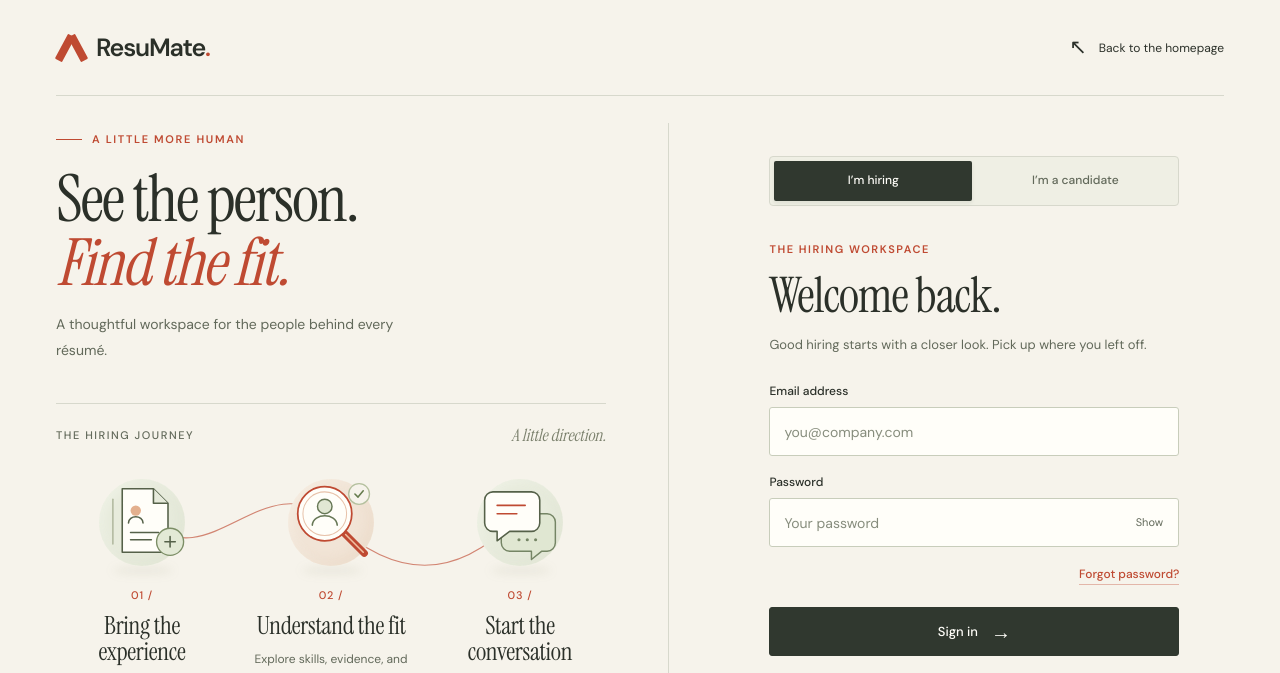
Scenario: before anything is sent › says what is wrong with an email that is not one
In the field labelled "Email address": (974, 432) x1=769 y1=407 x2=1179 y2=456, type "jane@co"
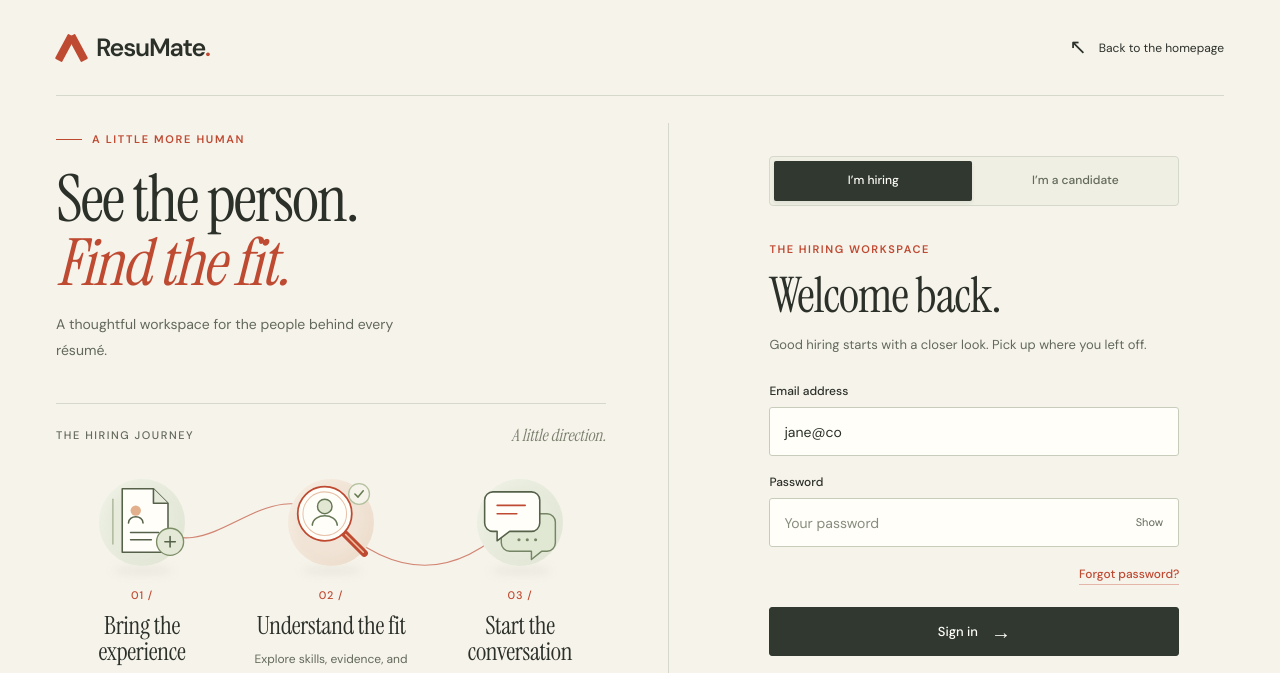
In the password field labelled "Password": (974, 522) x1=769 y1=498 x2=1179 y2=547, type "hunter2hunter2"
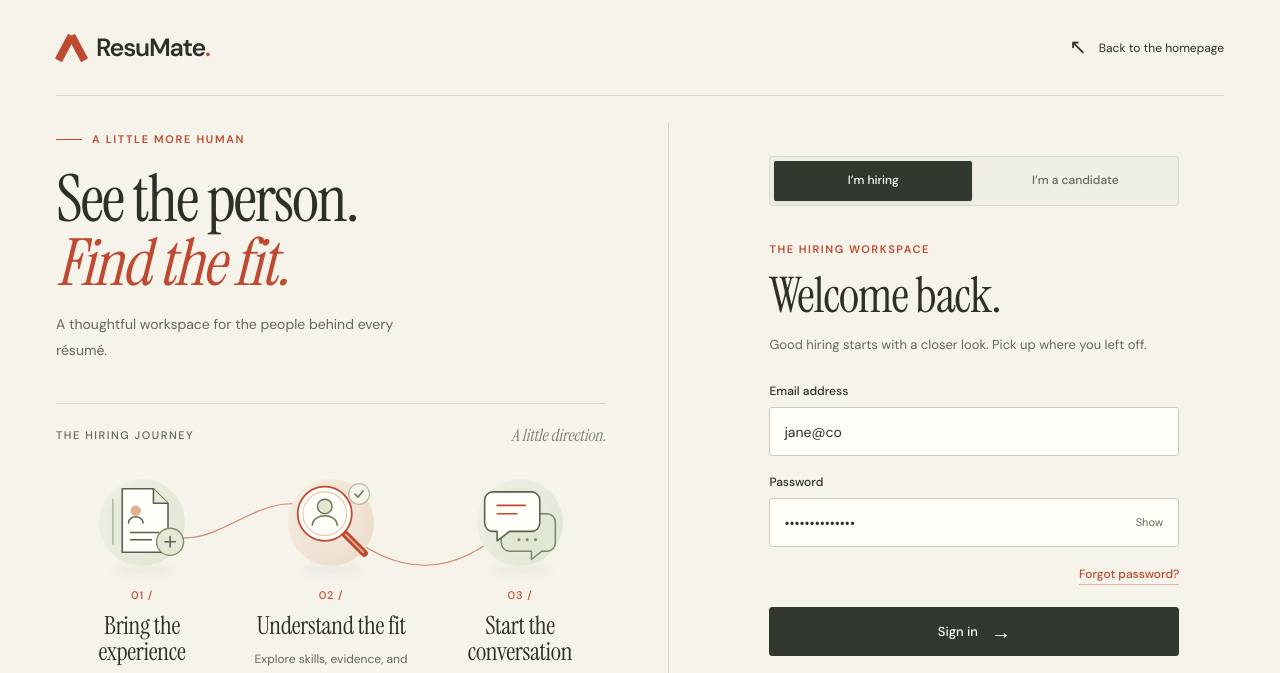
Click the button "Sign in →": (974, 632) x1=769 y1=607 x2=1179 y2=656
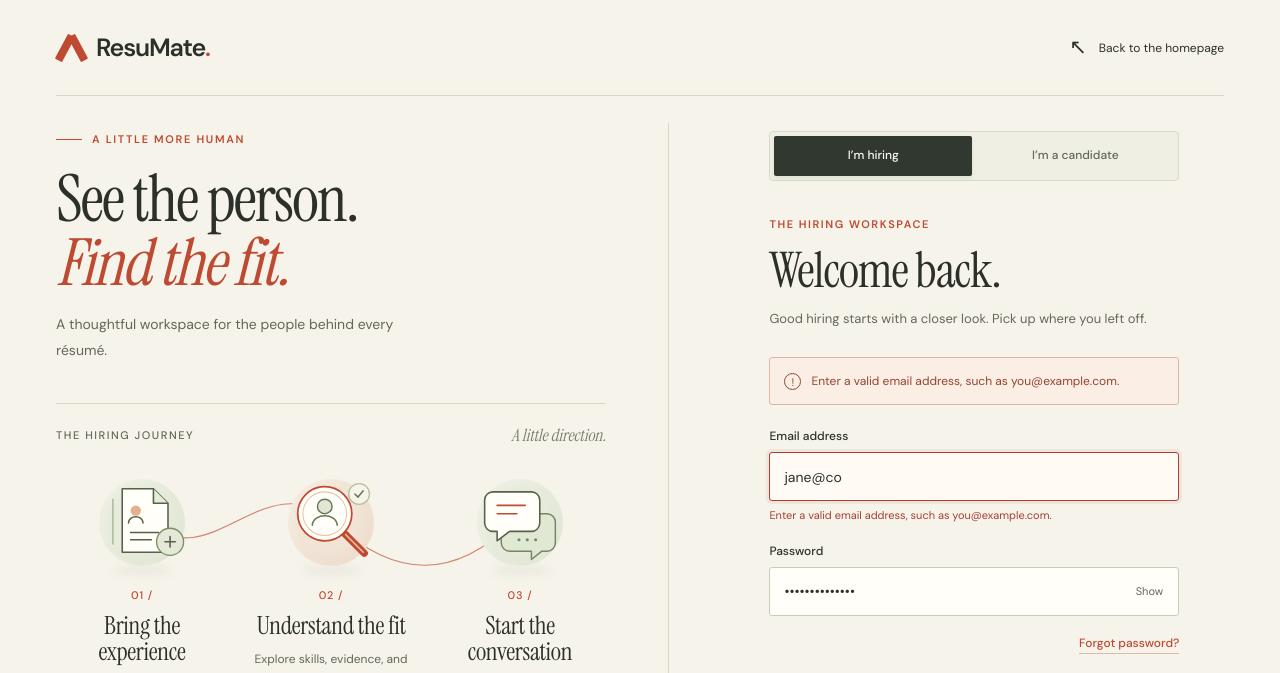
Check: the message shows "Enter a valid email address, such as you@example.com.", box x1=811 y1=373 x2=1119 y2=389
